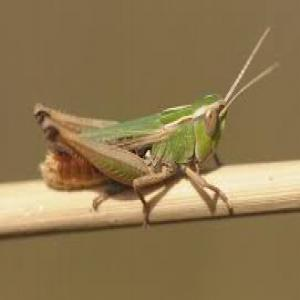locust: (53, 59, 253, 211)
